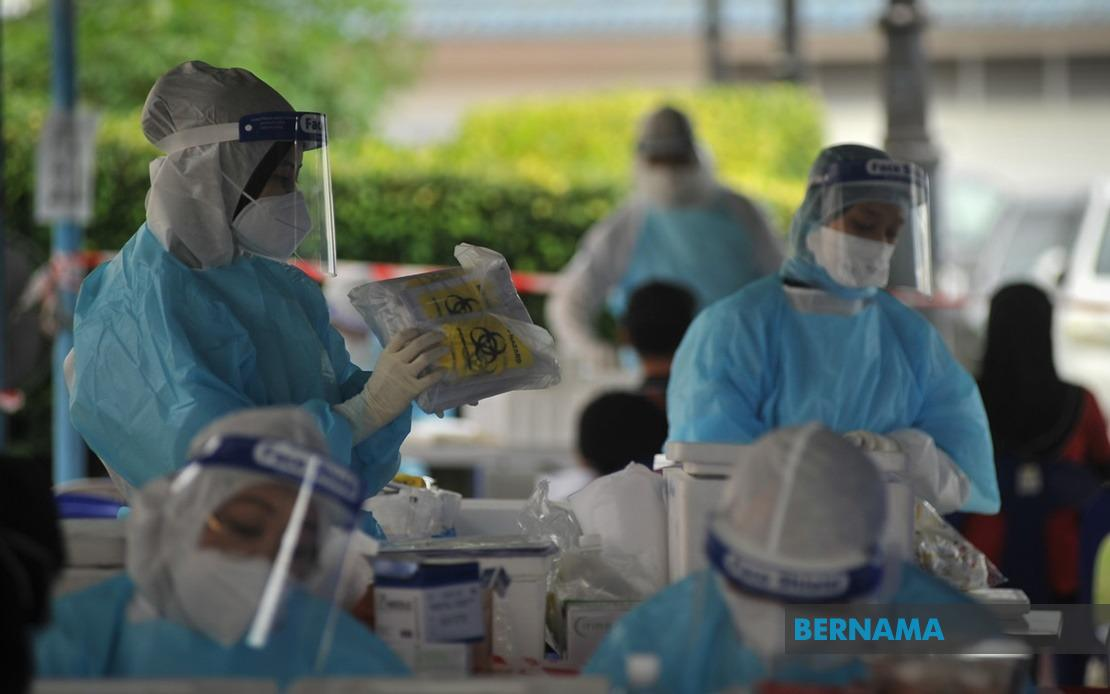Coverall: (65, 228, 390, 469), (653, 277, 1001, 457)
Gloves: (352, 324, 451, 426)
with_mask: (175, 492, 323, 646), (236, 155, 317, 260), (818, 199, 903, 290)
